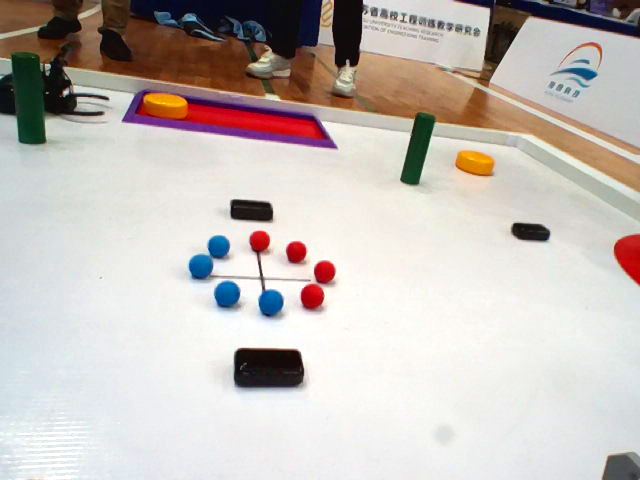black: (230, 349, 308, 390), (225, 196, 277, 220), (512, 221, 553, 240)
blue: (256, 289, 291, 320), (213, 280, 240, 307), (187, 254, 214, 279), (210, 236, 233, 256)
kuang: (118, 88, 336, 157)
red: (300, 283, 324, 308), (248, 232, 273, 256), (311, 259, 336, 282), (285, 241, 308, 264)
yellow: (141, 89, 190, 120), (456, 149, 498, 177)
zhuzi: (10, 52, 46, 147), (397, 108, 435, 189)
